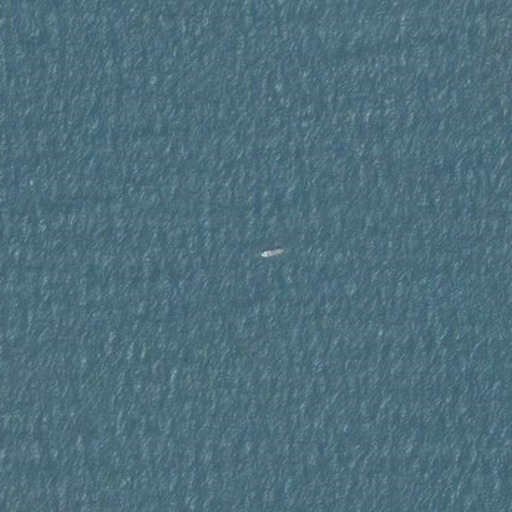ship: (258, 246, 284, 260)
